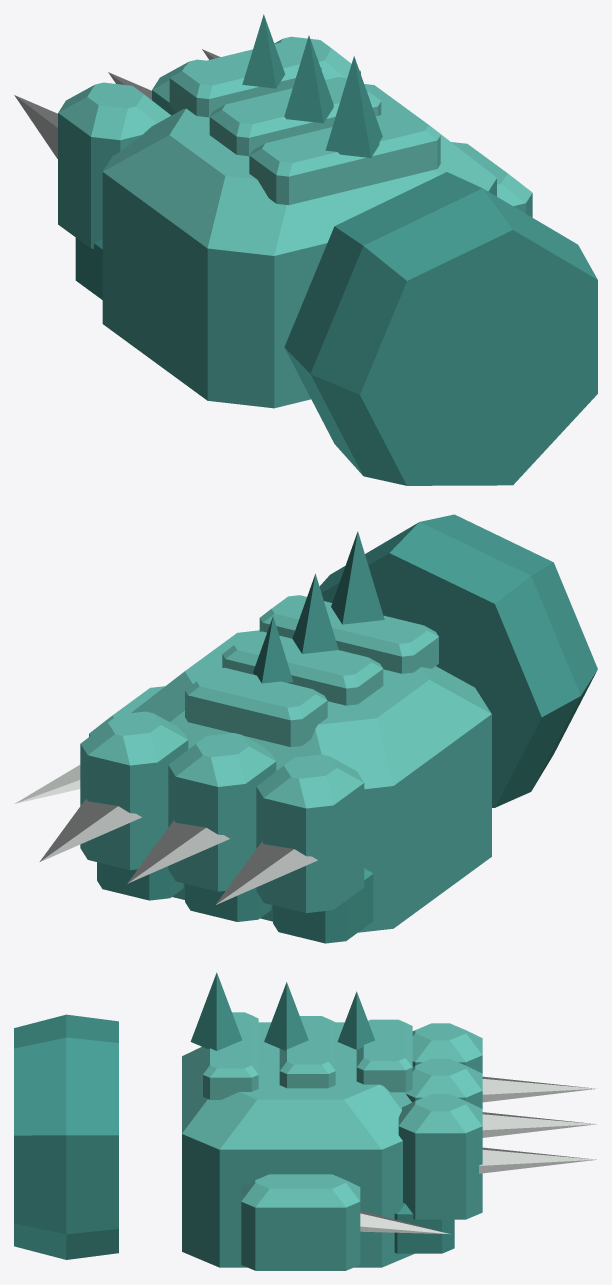
Rendered from KaijuClaw_L.glb.
3 renders of one model, top to bottom at view 1: azimuth 30°, elevation 25°; view 2: azimuth 150°, elevation 25°; view 3: azimuth 270°, elevation 25°, orthographic. The views are drawn at different scales.
Parts seen in each view (by area): view 1: KaijuClaw_L; view 2: KaijuClaw_L; view 3: KaijuClaw_L.
Part boxes in pixels (left/top/right/bottom): KaijuClaw_L: left=14, top=14, right=597, bottom=485; KaijuClaw_L: left=14, top=514, right=597, bottom=943; KaijuClaw_L: left=14, top=972, right=597, bottom=1270.
Size of the model in its own units: 9.21 by 8.71 by 16.7.
